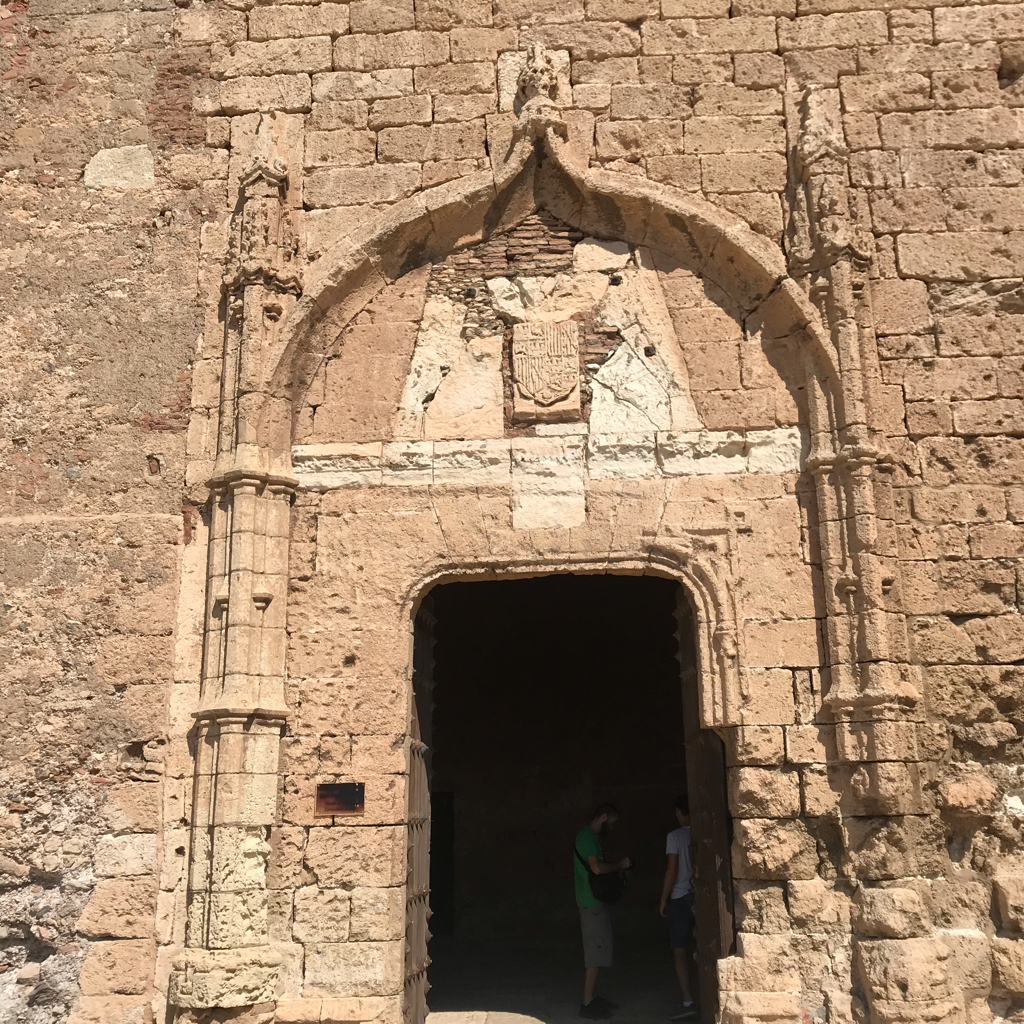arco-conopial: (292, 115, 800, 305)
